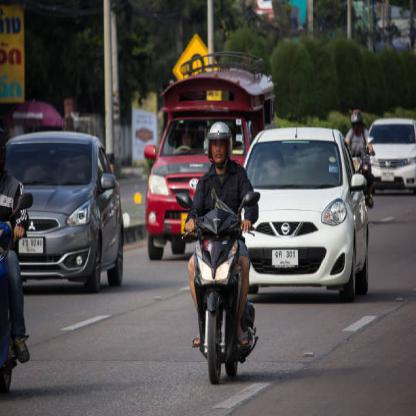Motorcycle: (185, 211, 257, 384)
